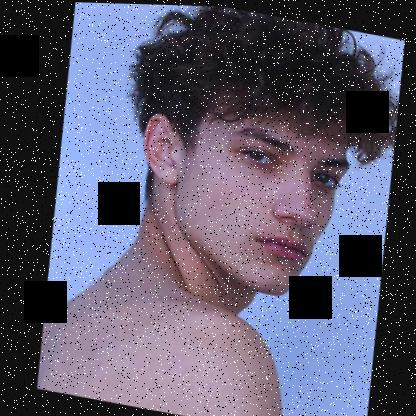Male: (115, 65, 362, 306)
